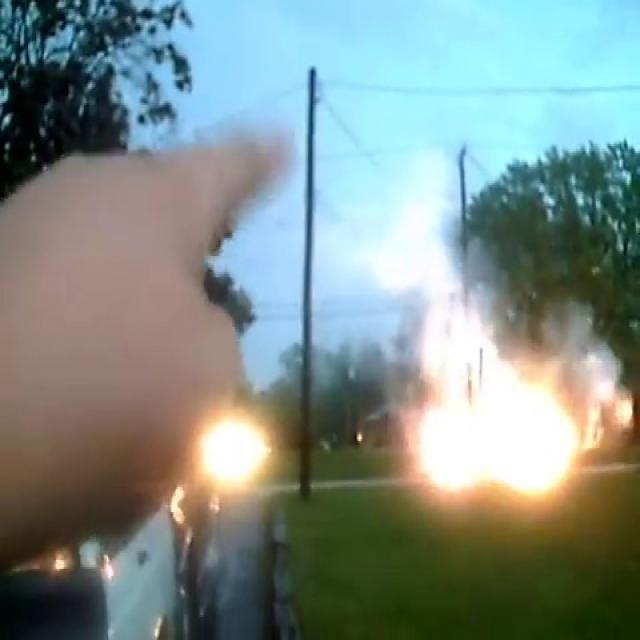Fire: (407, 313, 601, 508)
